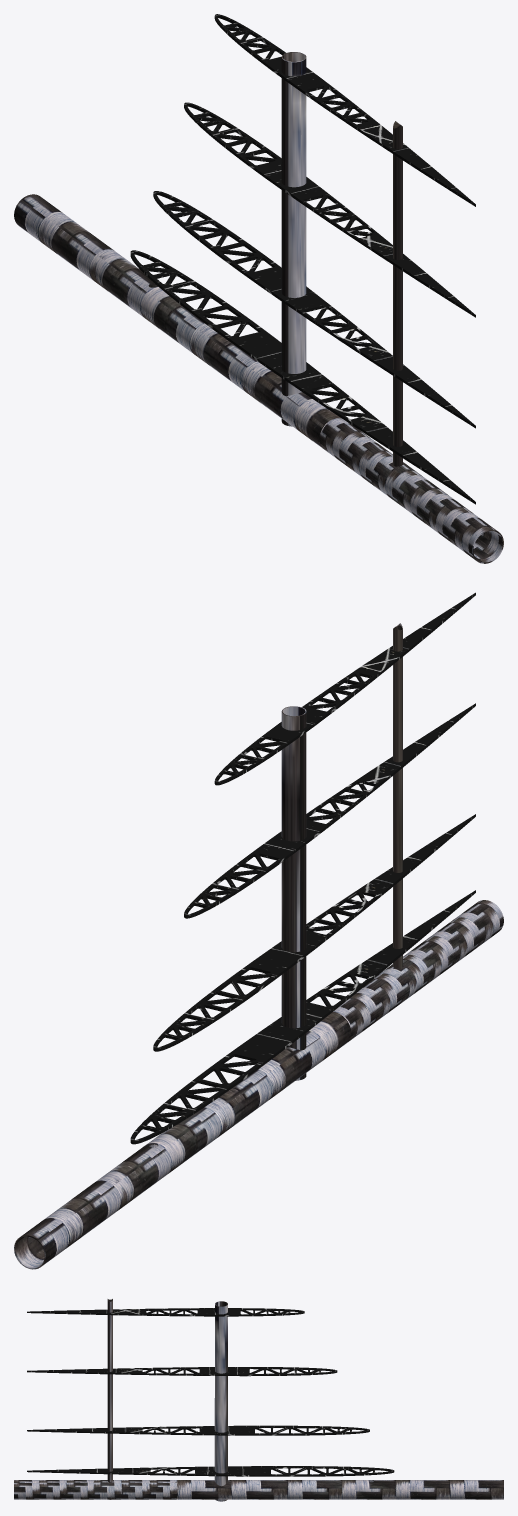
The model's file is vtp.glb.
3 views of the same model, one above another, from view 1: azimuth 30°, elevation 25°; view 2: azimuth 150°, elevation 25°; view 3: azimuth 270°, elevation 25° (orthographic). The views are drawn at different scales.
Visible parts, largest first — view 1: Boom 1 m With Holes-1, Boom 30 cm-1, Front Spar-1, VTP Rib6-1, VTP Rib3-1, VTP Rib4-1, VTP Rib5-1, Rear Spar-1; view 2: Boom 1 m With Holes-1, VTP Rib6-1, Front Spar-1, Boom 30 cm-1, VTP Rib3-1, VTP Rib4-1, VTP Rib5-1, Rear Spar-1; view 3: Boom 1 m With Holes-1, Boom 30 cm-1, VTP Rib6-1, VTP Rib3-1, Front Spar-1, VTP Rib4-1, VTP Rib5-1, Rear Spar-1.
Part boxes in pixels (x1,y1,x2,y2): Boom 1 m With Holes-1: (14,194,340,448); Boom 30 cm-1: (319,418,503,563); Front Spar-1: (281,52,306,426); VTP Rib6-1: (130,250,475,504); VTP Rib3-1: (153,191,475,428); VTP Rib4-1: (184,102,475,317); VTP Rib5-1: (214,14,475,206); Rear Spar-1: (393,121,402,466); Boom 1 m With Holes-1: (14,1012,351,1269); VTP Rib6-1: (130,890,475,1144); Front Spar-1: (281,706,306,1080); Boom 30 cm-1: (333,900,503,1042); VTP Rib3-1: (153,814,475,1051); VTP Rib4-1: (184,703,475,918); VTP Rib5-1: (214,592,475,785); Rear Spar-1: (393,623,402,968); Boom 1 m With Holes-1: (177,1480,503,1499); Boom 30 cm-1: (14,1480,177,1499); VTP Rib6-1: (27,1466,394,1476); VTP Rib3-1: (27,1425,369,1435); Front Spar-1: (214,1301,227,1501); VTP Rib4-1: (27,1367,337,1376); VTP Rib5-1: (27,1308,304,1316); Rear Spar-1: (107,1299,112,1499).
Size of the model in its own units: 0.067 by 0.6768 by 1.5.
8 materials, 8 textured.
